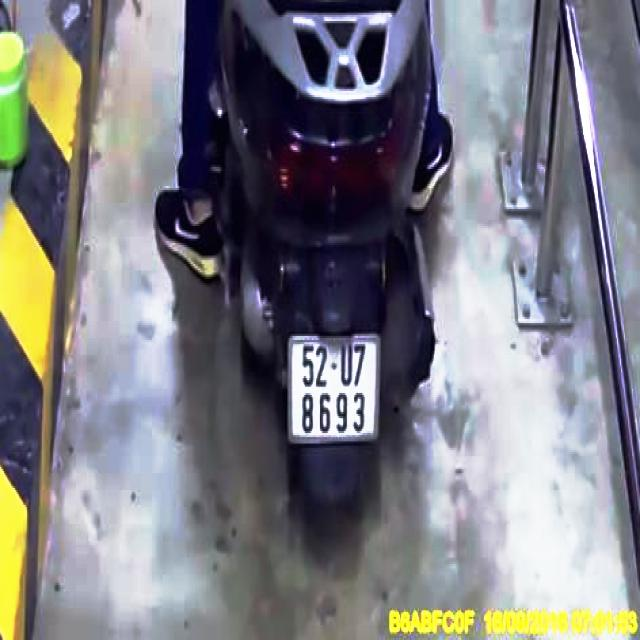license_plate: (291, 339, 381, 441)
